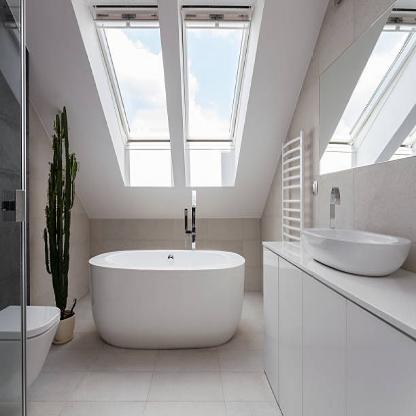Window: (90, 6, 171, 149), (186, 8, 254, 149)
